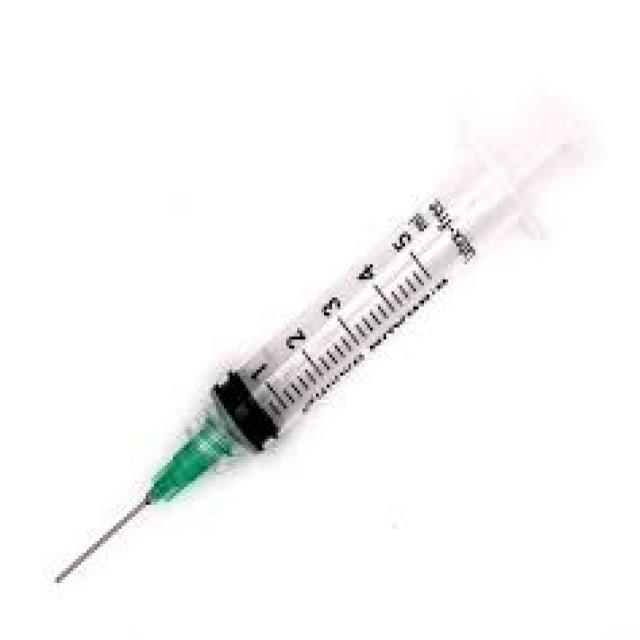syringe: (51, 90, 592, 583)
